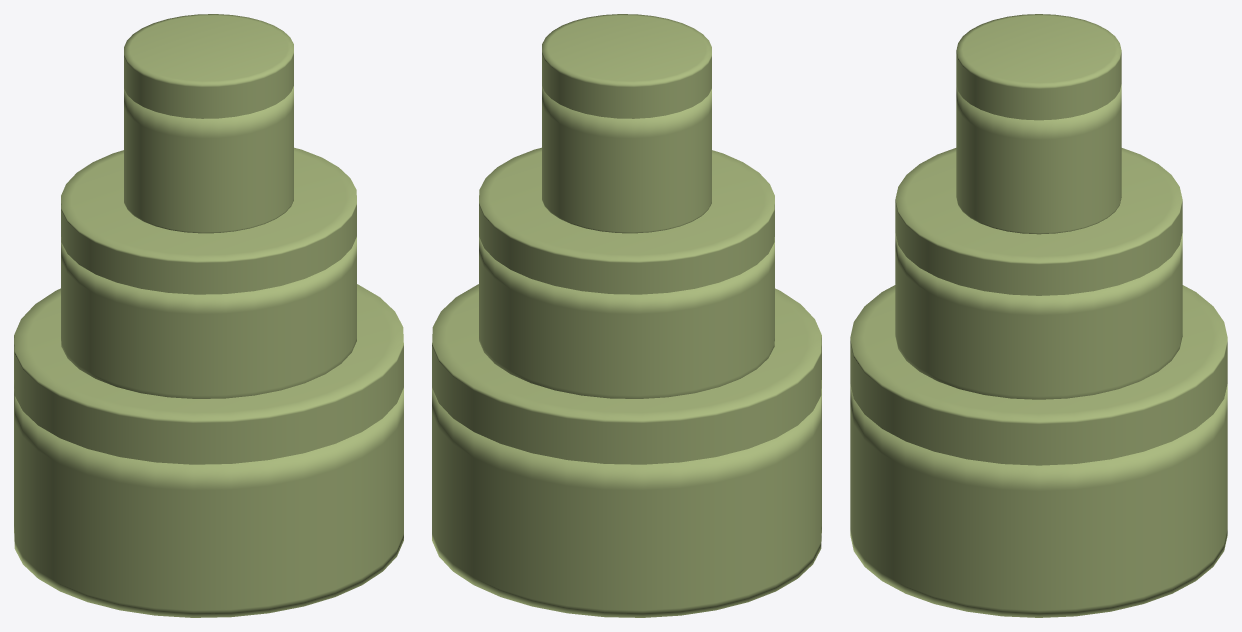
The model's file is 3-tier-pistage-none-none.glb.
3 views of the same model, side by side, from view 1: azimuth 30°, elevation 25°; view 2: azimuth 150°, elevation 25°; view 3: azimuth 270°, elevation 25° (orthographic).
Visible parts, largest first — view 1: Cylinder.022, Cylinder.014, Cylinder.021; view 2: Cylinder.022, Cylinder.014, Cylinder.021; view 3: Cylinder.022, Cylinder.014, Cylinder.021.
Boxes of the visible parts, x1,y1,x2,y2 form: Cylinder.022: (14, 284, 403, 617); Cylinder.014: (61, 147, 356, 398); Cylinder.021: (124, 14, 293, 233); Cylinder.022: (432, 284, 821, 617); Cylinder.014: (479, 147, 774, 398); Cylinder.021: (542, 14, 711, 233); Cylinder.022: (850, 285, 1227, 617); Cylinder.014: (895, 148, 1182, 399); Cylinder.021: (956, 14, 1121, 234).
Size of the model in its own units: 4.22 by 5.76 by 4.06.
